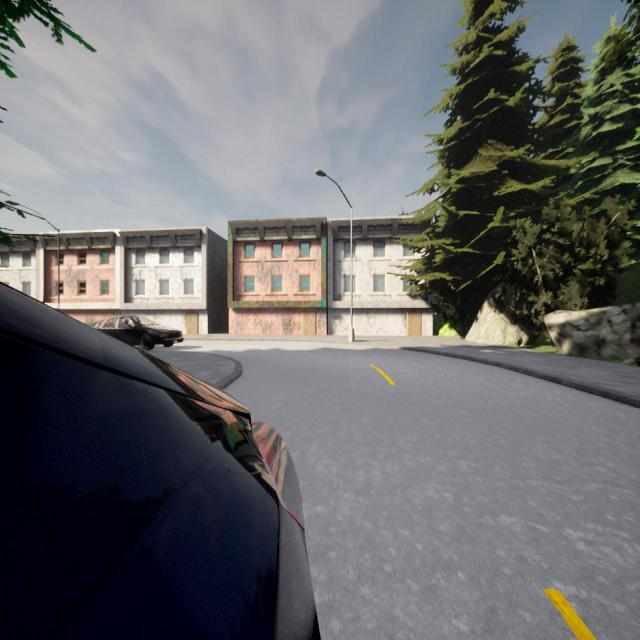Vehicle: (0, 283, 319, 638), (87, 316, 185, 351)
